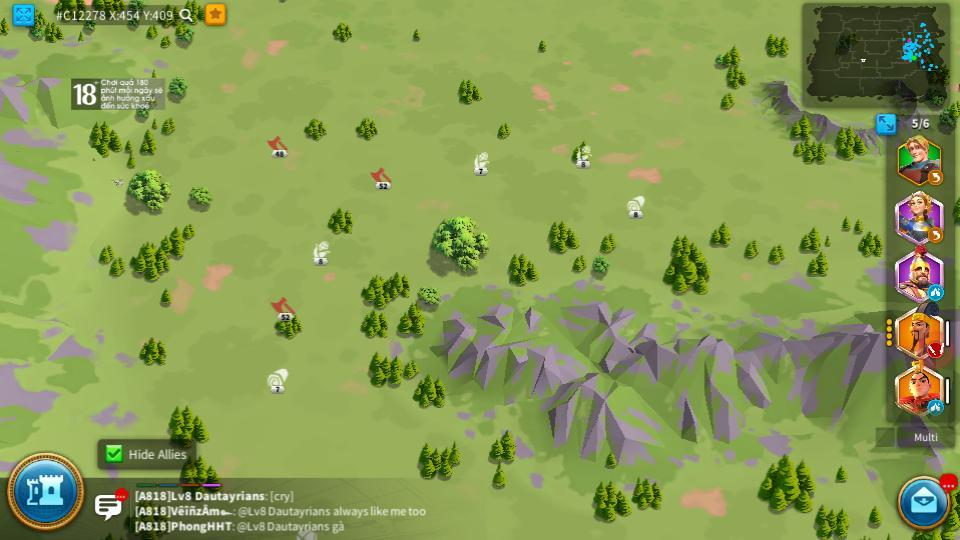march_attacking: (928, 345, 942, 357)
march_idle: (927, 402, 944, 414), (929, 286, 942, 299)
march_returning: (927, 170, 944, 185), (928, 229, 942, 242)
